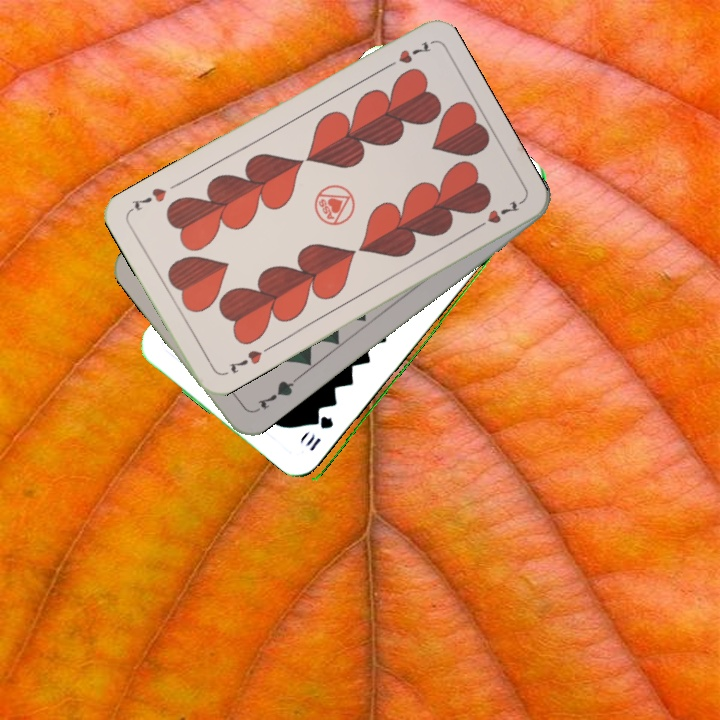G10: (301, 413, 337, 454)
G7: (254, 374, 299, 412)
H7: (379, 37, 434, 72), (224, 346, 265, 377)
